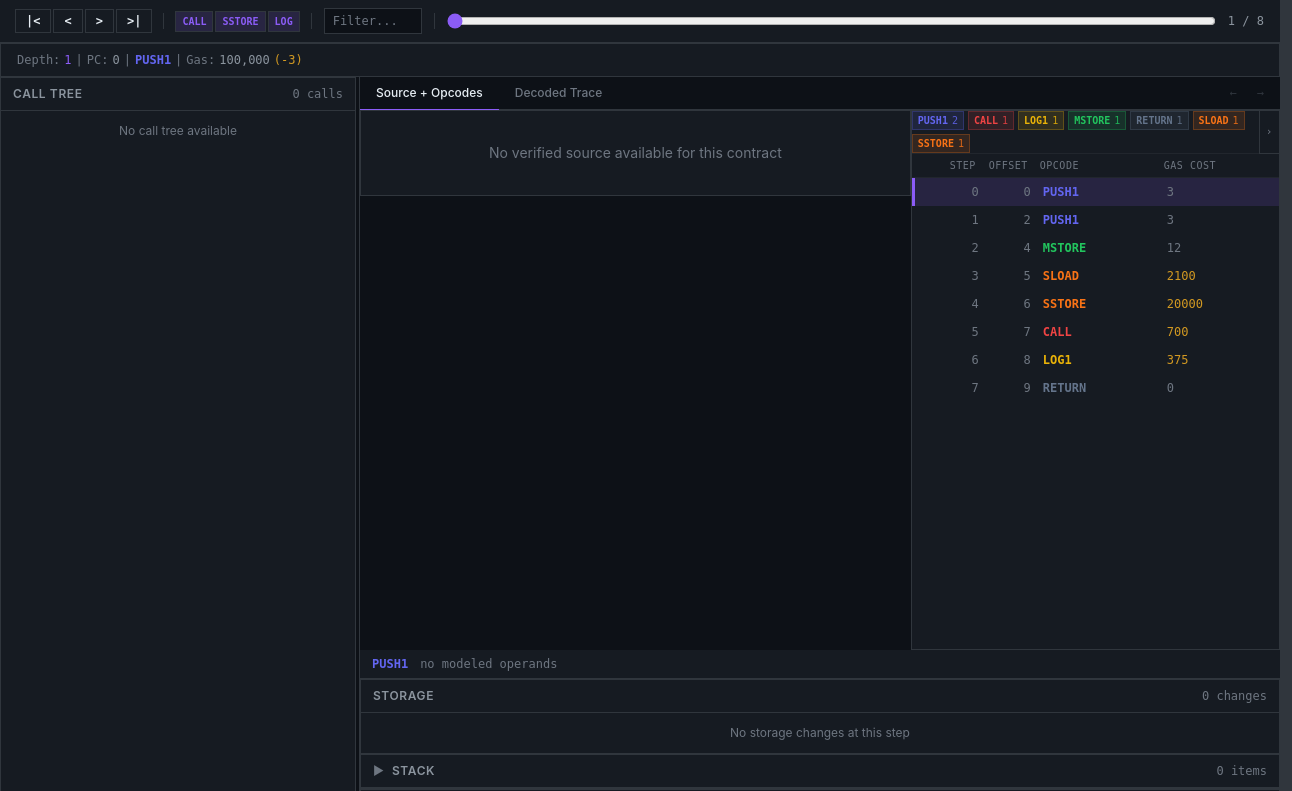
StepDebugger › jumps to start and end
Click the button titled "Jump to end (End)".
click(134, 21)  # box [117,10,151,32]
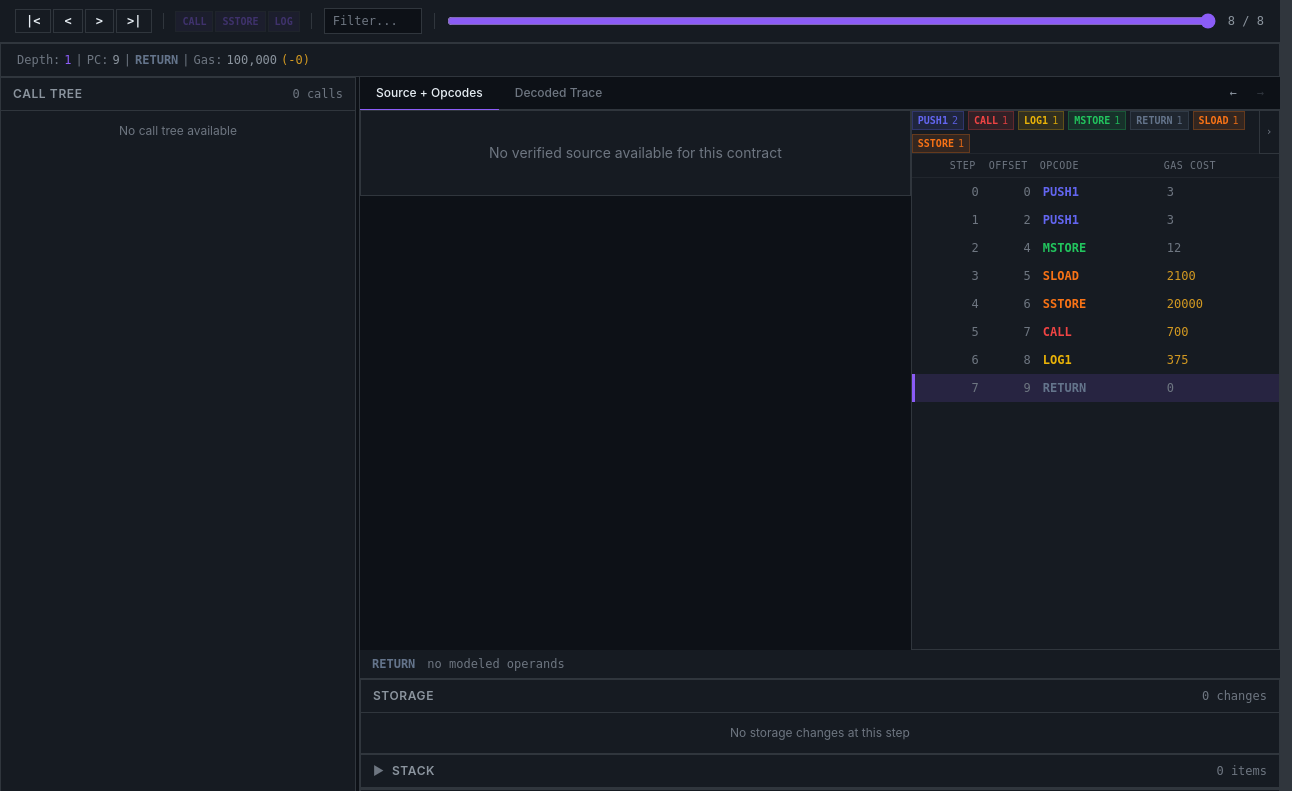
Now the text "8 / 8" is shown, box [1228,13,1264,29]
Click the button titled "Jump to start (Home)".
click(33, 21)  # box [16,10,50,32]
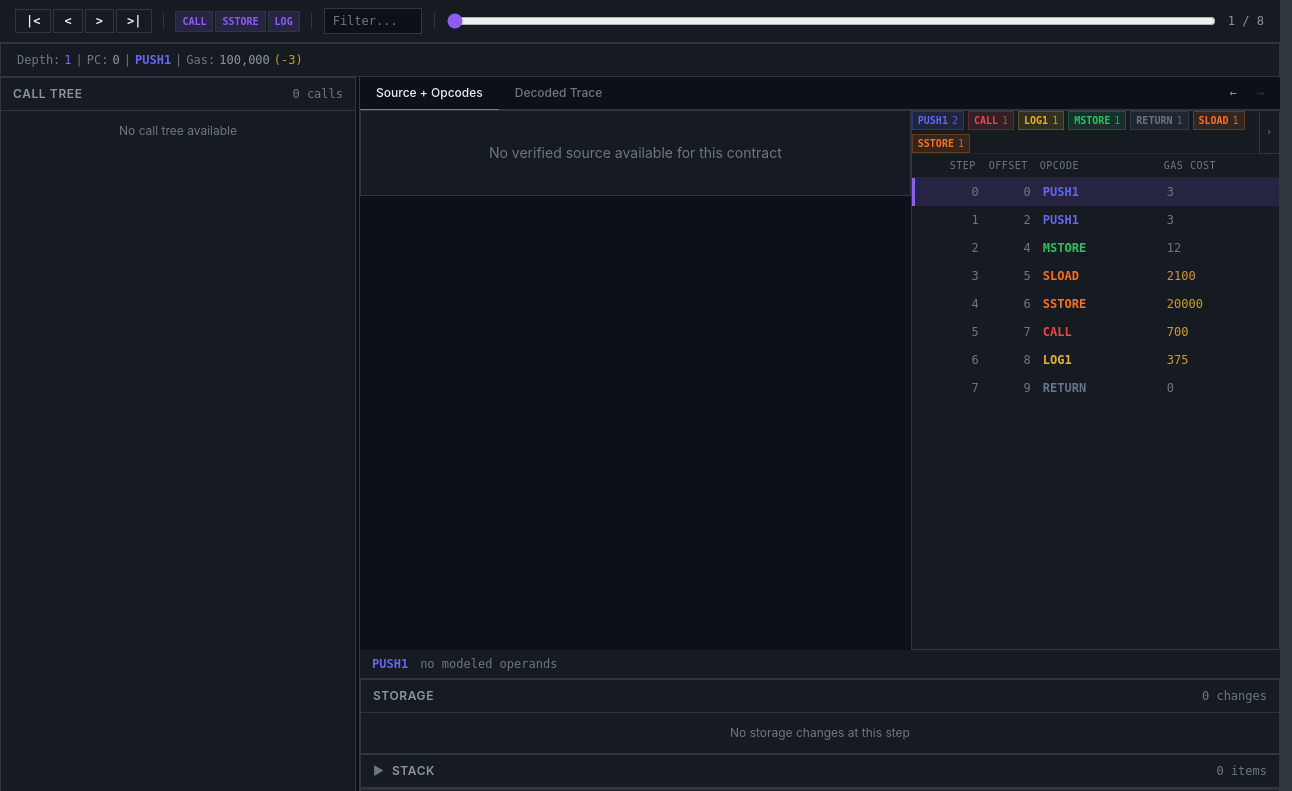
Now the text "1 / 8" is shown, box [1228,13,1264,29]
